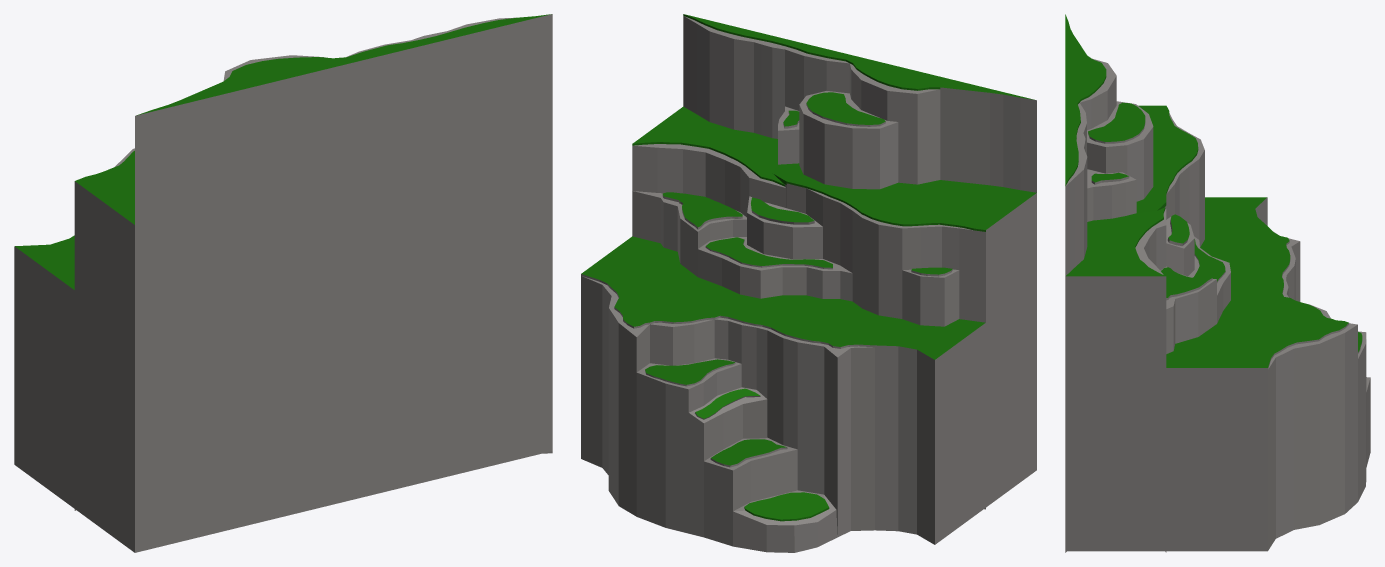
File: FixedStair1.fbx
3 views of the same model, side by side, from view 1: azimuth 30°, elevation 25°; view 2: azimuth 150°, elevation 25°; view 3: azimuth 270°, elevation 25° (orthographic). The views are drawn at different scales.
Visible parts, largest first — view 1: Plane; view 2: Plane; view 3: Plane.
Boxes of the visible parts, bbox=[...] form: Plane: bbox=[14, 14, 552, 552]; Plane: bbox=[581, 14, 1036, 552]; Plane: bbox=[1065, 14, 1370, 552].
Size of the model in its own units: 100 by 101 by 75.48.
